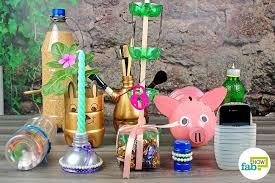Plastic toys: (156, 83, 218, 143)
